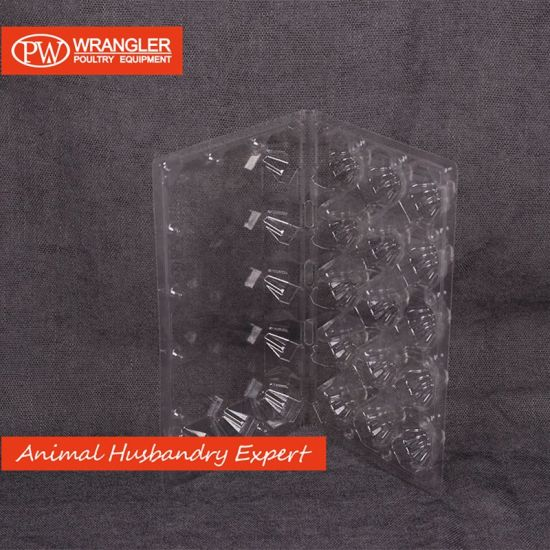PlasticBox: (148, 105, 461, 439)
